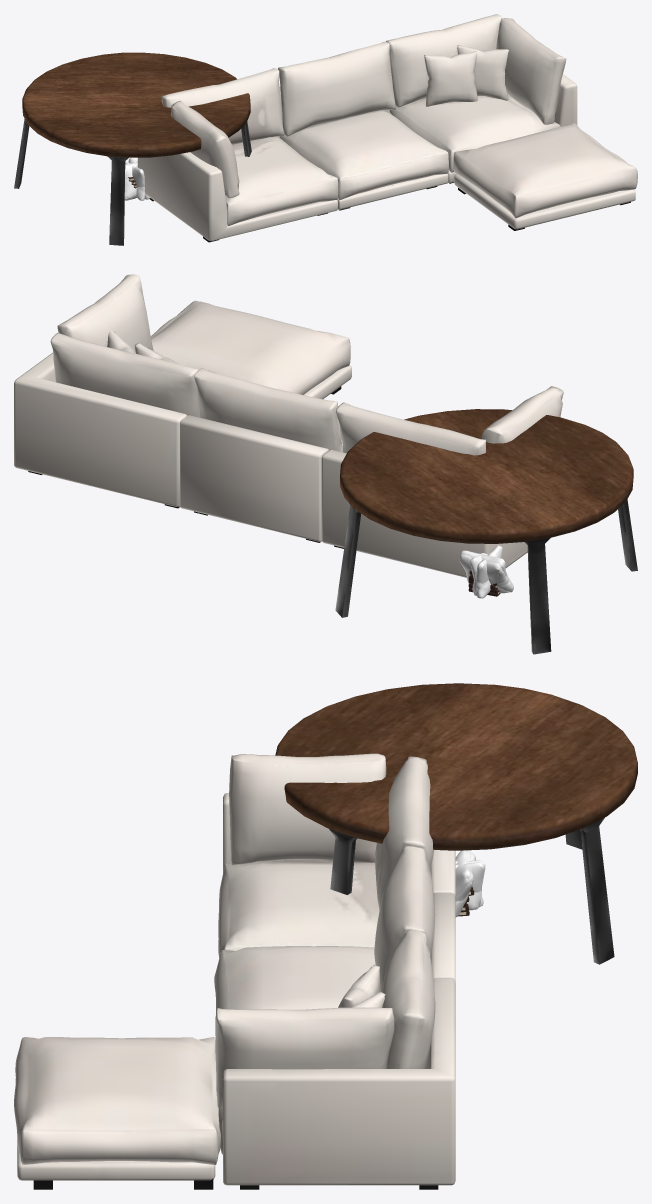
File: lib.glb
The picture shows the model from 3 angles, top to bottom: view 1: azimuth 30°, elevation 25°; view 2: azimuth 150°, elevation 25°; view 3: azimuth 270°, elevation 25°; orthographic projection. The views are drawn at different scales.
Parts seen in each view (by area): view 1: ctable_top, sofa_seat_chaise, sofa_seat_mid, sofa_back_mid, sofa_frame_end, sofa_seat_end, sofa_seat_corner, sofa_back_corner, sofa_back_side, sofa_pillow, sofa_back_end, sofa_base_chaise (+4 smaller); view 2: ctable_top, sofa_frame_corner, sofa_frame_mid, sofa_seat_chaise, sofa_back_corner, sofa_back_mid, sofa_frame_end, ctable_legs, sofa_back_side, sofa_back_end, sofa_arm, sofa_base_chaise (+1 smaller); view 3: ctable_top, sofa_frame_corner, sofa_seat_chaise, sofa_seat_end, sofa_arm, sofa_back_side, sofa_seat_mid, sofa_back_corner, sofa_back_mid, ctable_legs, sofa_back_end, sofa_base_chaise (+3 smaller).
Boxes of the visible parts, x1,y1,x2,y2 form: ctable_top: (22,52,250,157); sofa_seat_chaise: (453,123,637,218); sofa_seat_mid: (279,110,448,200); sofa_back_mid: (278,41,395,136); sofa_frame_end: (137,144,337,241); sofa_seat_end: (225,136,338,226); sofa_seat_corner: (389,94,560,172); sofa_back_corner: (386,14,501,107); sofa_back_side: (496,18,566,124); sofa_pillow: (424,45,508,106); sofa_back_end: (161,68,284,144); sofa_base_chaise: (454,174,635,229); ctable_top: (340,409,633,543); sofa_frame_corner: (14,352,187,506); sofa_frame_mid: (180,415,328,541); sofa_seat_chaise: (150,300,350,394); sofa_back_corner: (50,333,200,417); sofa_back_mid: (194,368,342,452); sofa_frame_end: (321,450,527,577); ctable_legs: (335,499,637,654); sofa_back_side: (57,274,153,350); sofa_back_end: (336,402,485,455); sofa_arm: (481,386,563,443); sofa_base_chaise: (304,365,351,399); ctable_top: (275,683,637,850); sofa_frame_corner: (223,979,455,1185); sofa_seat_chaise: (14,1037,220,1164); sofa_seat_end: (218,861,379,957); sofa_arm: (229,753,386,865); sofa_back_side: (215,1007,394,1107); sofa_seat_mid: (214,946,375,1013); sofa_back_corner: (381,929,435,1068); sofa_back_mid: (374,845,435,991); ctable_legs: (328,817,614,964); sofa_back_end: (375,756,433,910); sofa_base_chaise: (17,1140,215,1180).
Bounding box in the file's own units: 4.72 × 1.03 × 3.42.
Materials: 8 (7 with a texture image).
